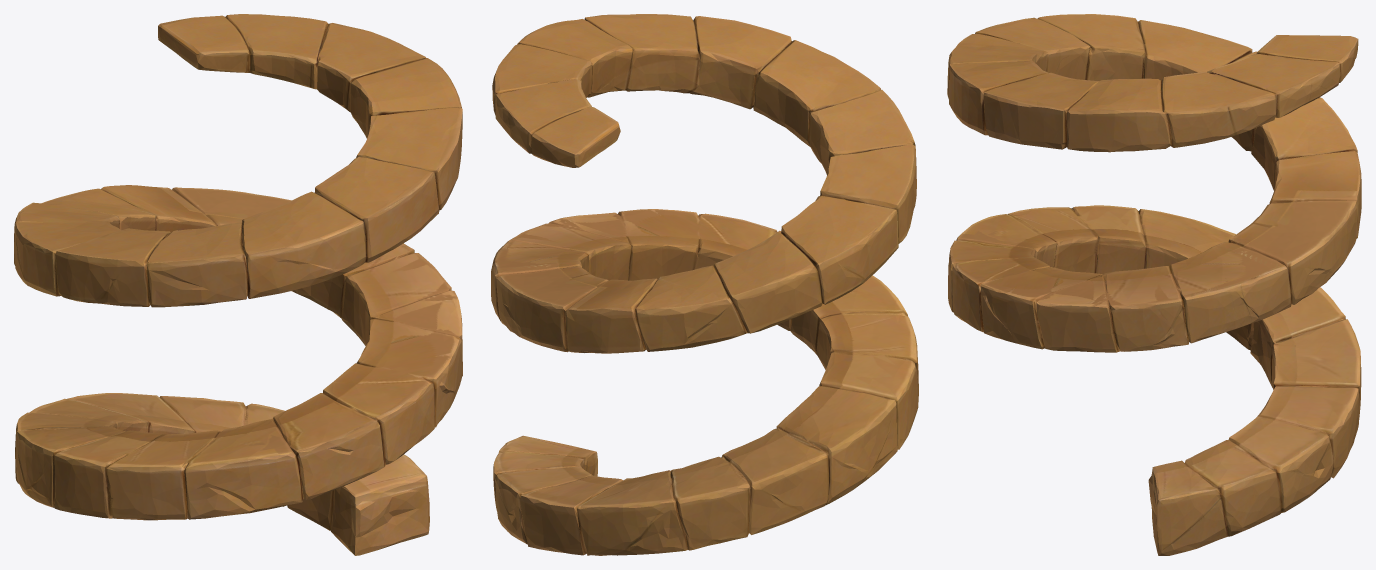
The model's file is spin.fbx.
The picture shows the model from 3 angles, left to right: view 1: azimuth 30°, elevation 25°; view 2: azimuth 150°, elevation 25°; view 3: azimuth 270°, elevation 25°; orthographic projection. The views are drawn at different scales.
Visible parts, largest first — view 1: temp; view 2: temp; view 3: temp.
Part boxes in pixels (box(x1,y1,x2,y2)): temp: box(14, 14, 462, 555); temp: box(491, 14, 918, 555); temp: box(947, 14, 1361, 555).
Bounding box in the file's own units: 171 × 200 × 167.
1 material, 1 textured.
